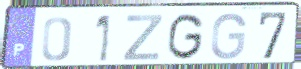0: (40, 15, 74, 63)
1: (93, 13, 113, 64)
7: (257, 10, 288, 61)
G: (165, 12, 206, 62), (209, 11, 248, 61)
Z: (121, 13, 165, 62)
